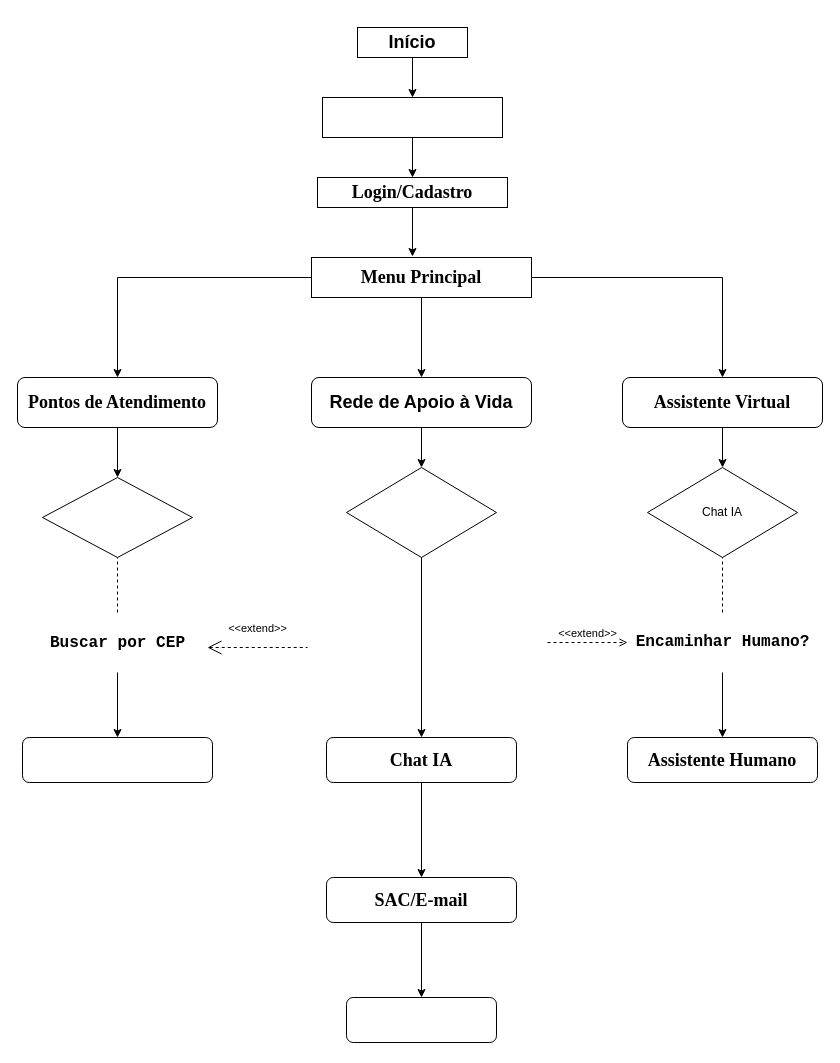
The diagram is 840 pixels wide and 1063 high, and some of its shapes have lost their labels. Each missing label, with the centre of its shape:
"Ativar GPS?" belongs at pixel 117 517.
"Fim" belongs at pixel 421 1019.
"Mensagem + Contato" belongs at pixel 421 512.
"Pontos de Pontos" belongs at pixel 117 759.
"Tela de Login" belongs at pixel 412 117.
